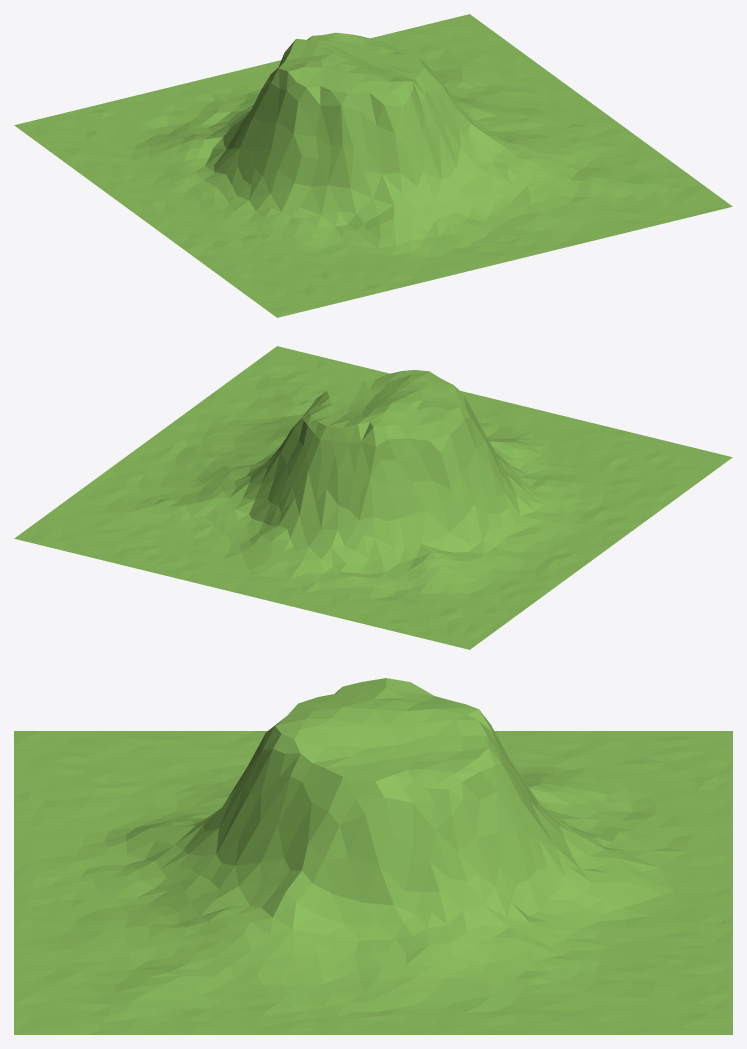
Rendered from MT_Terrain_L_c_20.fbx.
3 views of the same model, one above another, from view 1: azimuth 30°, elevation 25°; view 2: azimuth 150°, elevation 25°; view 3: azimuth 270°, elevation 25° (orthographic). The views are drawn at different scales.
Visible parts, largest first — view 1: MT_Terrain_L_c_20; view 2: MT_Terrain_L_c_20; view 3: MT_Terrain_L_c_20.
Boxes of the visible parts, x1,y1,x2,y2 form: MT_Terrain_L_c_20: (14,14,732,317); MT_Terrain_L_c_20: (14,346,732,649); MT_Terrain_L_c_20: (14,678,732,1034).
Bounding box in the file's own units: 10000 × 2384 × 10000.
